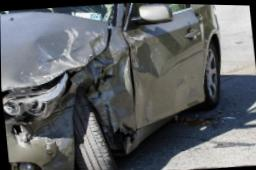Bonnet: (4, 12, 110, 94)
Bumper: (7, 105, 74, 170)
Door: (126, 26, 163, 84)
Fender: (73, 26, 135, 132)
Light: (2, 74, 68, 118)
